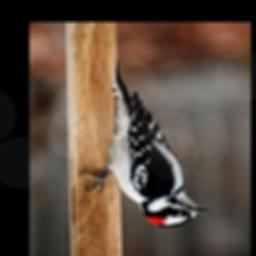Woodpecker: (78, 62, 209, 228)
